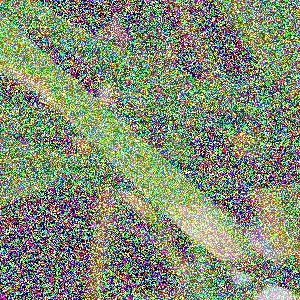Brown_Spot: (10, 56, 62, 106)
